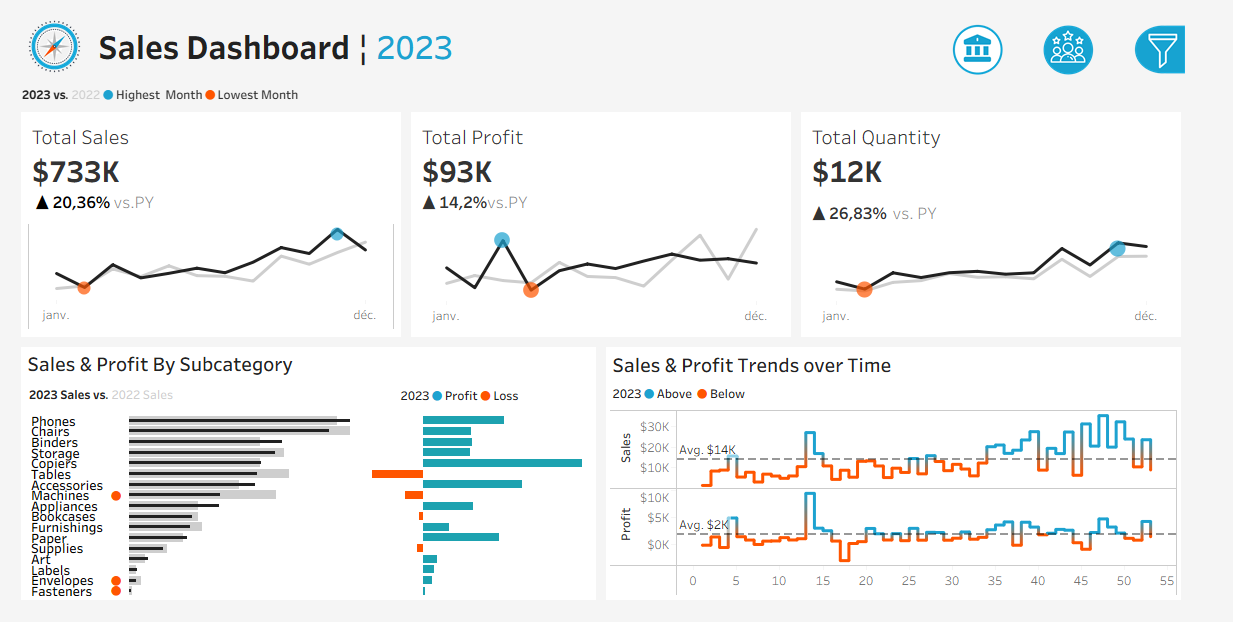

What the dashboard file says about the page in this screenshot:
{"tool":"tableau","page":{"name":"Sales Dashboard","canvas":[1170,590],"ordinal":1},"visuals":[{"type":"image","param":"Image/Icon - Logo.png","box":[0,0,76,62]},{"type":"text","box":[76,0,1094,62]},{"type":"dashboard-object","box":[916,5,91,59]},{"type":"dashboard-object","box":[1007,5,91,59]},{"type":"blank","box":[913,10,245,57]},{"type":"worksheet","title":"Legend KPI","mark":"Automatic","box":[0,62,1170,35]},{"type":"text","box":[913,67,245,34]},{"type":"worksheet","title":"KPI Sales","mark":"Automatic","rows":["Calculation_1106414407319557"],"cols":["Order Date"],"box":[0,97,390,230]},{"type":"worksheet","title":"KPI Profit","mark":"Automatic","rows":["Calculation_1106415482392591"],"cols":["Order Date"],"box":[390,97,390,230]},{"type":"worksheet","title":"KPI Quantity","mark":"Automatic","rows":["Calculation_1106417938845718"],"cols":["Order Date"],"box":[780,97,390,230]},{"type":"parameter","param":"[Parameters].[Parameter 1106414060244995]","box":[913,101,245,61]},{"type":"blank","box":[913,162,245,32]},{"type":"text","box":[913,194,245,29]},{"type":"filter","title":"KPI Sales","param":"[federated.1n523260sofu8w16nr70v16ka1ht].[none:Category:nk]","box":[913,223,245,52]},{"type":"filter","title":"KPI Sales","param":"[federated.1n523260sofu8w16nr70v16ka1ht].[none:Sub-Category:nk]","box":[913,275,245,52]},{"type":"text","box":[913,327,245,29]},{"type":"text","box":[5,332,575,32]},{"type":"text","box":[590,332,575,34]},{"type":"filter","title":"KPI Sales","param":"[federated.1n523260sofu8w16nr70v16ka1ht].[none:Region:nk]","box":[913,356,245,52]},{"type":"worksheet","title":"Legend Subcategory","mark":"Automatic","box":[5,364,373,32]},{"type":"text","box":[378,364,202,32]},{"type":"text","box":[590,366,575,25]},{"type":"worksheet","title":"weekly Trends","mark":"Automatic","rows":["Calculation_1106414056583168","Calculation_1106415476674571"],"cols":["Order Date"],"box":[590,391,575,194]},{"type":"worksheet","title":"Subcategory Comparison","mark":"Bar","rows":["Sub-Category","Calculation_1106418738614298"],"cols":["CY Sales (copy)_1106414057213953","Calculation_1106414056583168","Calculation_1106415476674571"],"box":[5,396,575,189]},{"type":"filter","title":"KPI Sales","param":"[federated.1n523260sofu8w16nr70v16ka1ht].[none:State:nk]","box":[913,408,245,52]},{"type":"filter","title":"KPI Sales","param":"[federated.1n523260sofu8w16nr70v16ka1ht].[none:City:nk]","box":[913,460,245,52]}]}

Visuals, with their boxes in screenshot pixels (x1, y1, x2, y2), scaled from the page's 1170x590 canvas onto the 1233x622 screenshot:
image: bbox=[0, 0, 80, 65]
text: bbox=[80, 0, 1232, 65]
dashboard-object: bbox=[965, 5, 1061, 67]
dashboard-object: bbox=[1061, 5, 1157, 67]
blank: bbox=[962, 11, 1220, 71]
"Legend KPI" worksheet: bbox=[0, 65, 1232, 102]
text: bbox=[962, 71, 1220, 106]
"KPI Sales" worksheet: bbox=[0, 102, 411, 345]
"KPI Profit" worksheet: bbox=[411, 102, 822, 345]
"KPI Quantity" worksheet: bbox=[822, 102, 1232, 345]
parameter: bbox=[962, 106, 1220, 171]
blank: bbox=[962, 171, 1220, 205]
text: bbox=[962, 205, 1220, 235]
"KPI Sales" filter: bbox=[962, 235, 1220, 290]
"KPI Sales" filter: bbox=[962, 290, 1220, 345]
text: bbox=[962, 345, 1220, 375]
text: bbox=[5, 350, 611, 384]
text: bbox=[622, 350, 1228, 386]
"KPI Sales" filter: bbox=[962, 375, 1220, 430]
"Legend Subcategory" worksheet: bbox=[5, 384, 398, 417]
text: bbox=[398, 384, 611, 417]
text: bbox=[622, 386, 1228, 412]
"weekly Trends" worksheet: bbox=[622, 412, 1228, 617]
"Subcategory Comparison" worksheet (Bar marks): bbox=[5, 417, 611, 617]
"KPI Sales" filter: bbox=[962, 430, 1220, 485]
"KPI Sales" filter: bbox=[962, 485, 1220, 540]
